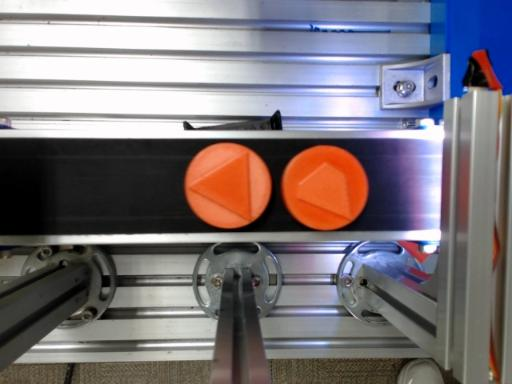Orange_Waper: (185, 142, 271, 228), (282, 146, 368, 230)
